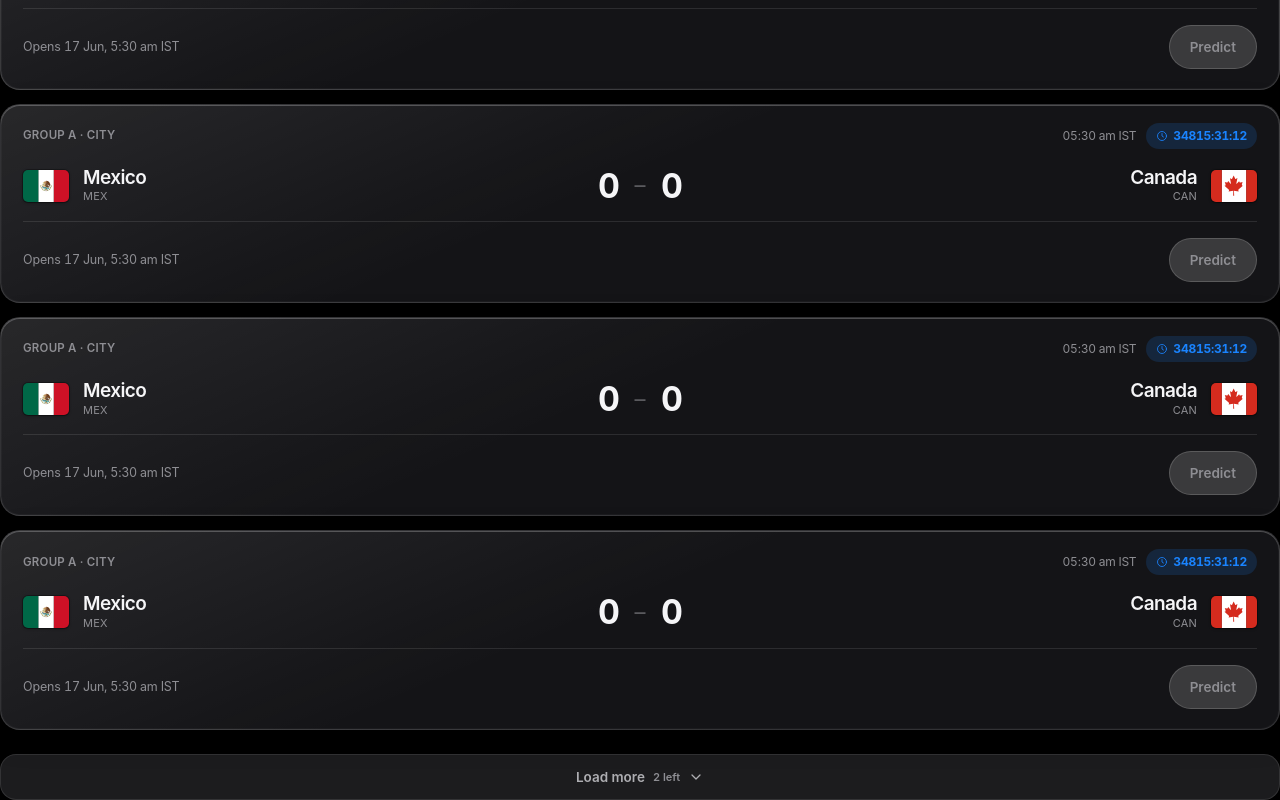
Test: MatchesColumn › loads 6 more on 'Load more' click
The width and height of the screenshot is (1280, 800).
(page scrolled)
Click the button "Load more 2 left". click: (640, 777)
box: [0,754,1279,799]
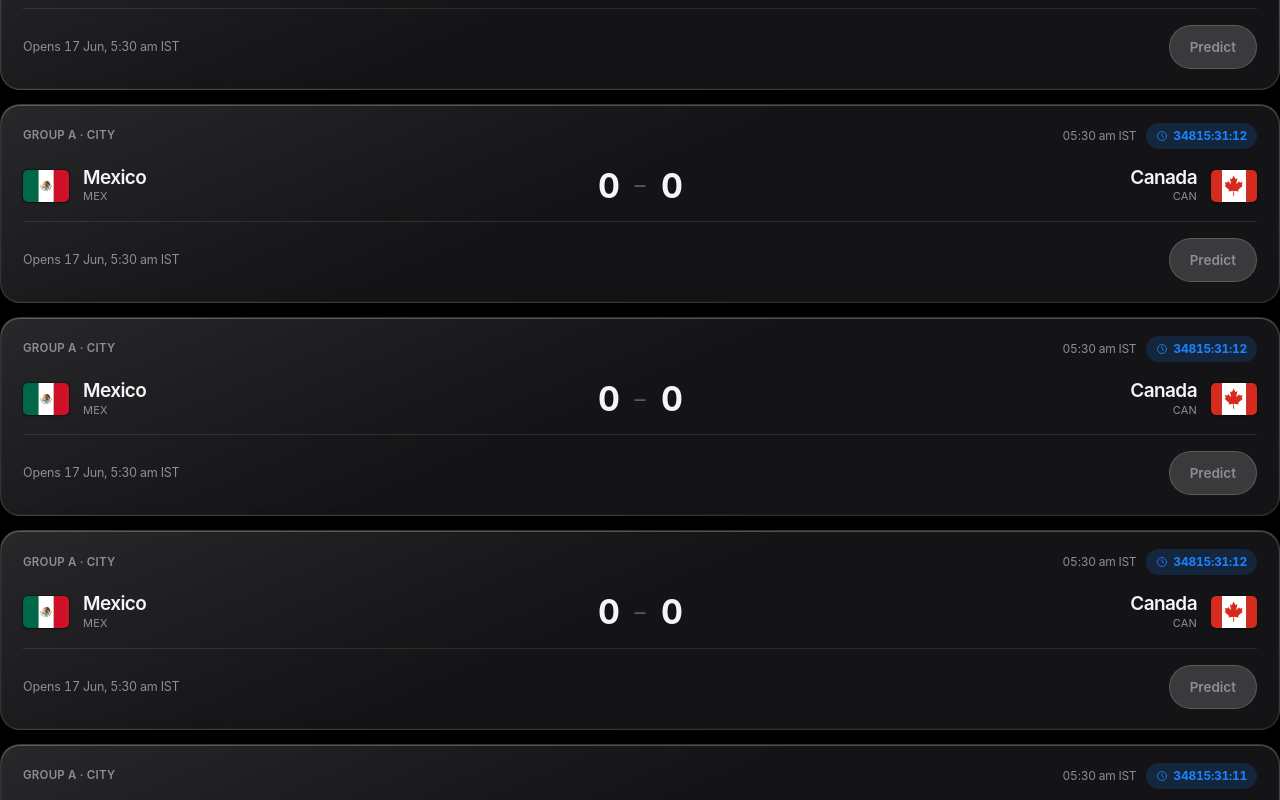
Result: the button "Load more" is gone
